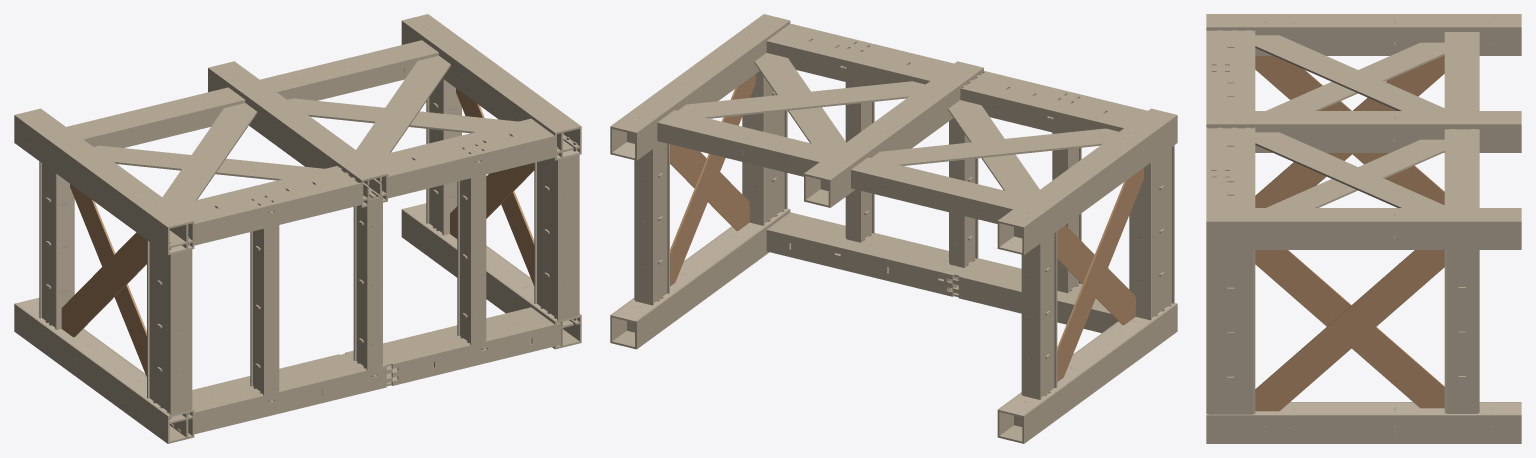
The model's file is workbench-v58-design-only.glb.
3 renders of one model, left to right at view 1: azimuth 30°, elevation 25°; view 2: azimuth 150°, elevation 25°; view 3: azimuth 270°, elevation 25°, orthographic. The views are drawn at different scales.
Visible parts, largest first — view 1: FL_COL_WIDE_PLAIN, RL_COL_WIDE_PLAIN, FRONT_UPPER_CAP_TOP_1, FRONT_UPPER_WEB_2_2, FRONT_UPPER_CAP_TOP_2, REAR_UPPER_L_CAP_TOP_1, REAR_UPPER_R_CAP_TOP_1, LEFT_UPPER_CAP_TOP_1, REAR_UPPER_R_WEB_2_1, RC_COL_NARROW_BACK_PLAIN, RR_COL_NARROW_PLAIN, RL_COL_NARROW_PLAIN (+34 smaller); view 2: FL_COL_WIDE_PLAIN, RL_COL_WIDE_PLAIN, FRONT_UPPER_WEB_2_2, FRONT_UPPER_CAP_BOTTOM_2, FR_COL_WIDE_RECV, REAR_R_BRACE_RISE, REAR_L_BRACE_RISE, LEFT_BRACE_RISE, REAR_UPPER_R_WEB_2_1, RL_COL_NARROW_PLAIN, RR_COL_NARROW_PLAIN, RC_COL_NARROW_BACK_PLAIN (+35 smaller); view 3: FR_COL_WIDE_PLAIN, RR_COL_WIDE_PLAIN, RIGHT_BRACE_FALL, RIGHT_UPPER_WEB_2_1, RIGHT_BRACE_RISE, RC_COL_WIDE_RIGHT_RECV, RL_COL_WIDE_RECV, RIGHT_LOWER_WEB_2_1, REAR_L_BRACE_RISE, REAR_R_BRACE_RISE, RL_COL_NARROW_PLAIN, RR_COL_NARROW_PLAIN (+17 smaller).
Part boxes in pixels (x1,y1,x2,y2): FL_COL_WIDE_PLAIN: [14, 303, 169, 443]; RL_COL_WIDE_PLAIN: [14, 114, 169, 254]; FRONT_UPPER_CAP_TOP_1: [194, 365, 392, 434]; FRONT_UPPER_WEB_2_2: [302, 308, 553, 380]; FRONT_UPPER_CAP_TOP_2: [391, 322, 560, 385]; REAR_UPPER_L_CAP_TOP_1: [194, 182, 361, 245]; REAR_UPPER_R_CAP_TOP_1: [388, 135, 554, 198]; LEFT_UPPER_CAP_TOP_1: [169, 249, 191, 415]; REAR_UPPER_R_WEB_2_1: [369, 119, 553, 175]; RC_COL_NARROW_BACK_PLAIN: [210, 61, 386, 181]; RR_COL_NARROW_PLAIN: [403, 14, 579, 134]; RL_COL_NARROW_PLAIN: [16, 109, 192, 228]; FL_COL_WIDE_PLAIN: [1022, 303, 1177, 443]; RL_COL_WIDE_PLAIN: [1022, 114, 1177, 254]; FRONT_UPPER_WEB_2_2: [768, 213, 1019, 284]; FRONT_UPPER_CAP_BOTTOM_2: [766, 229, 953, 296]; FR_COL_WIDE_RECV: [635, 209, 790, 349]; REAR_R_BRACE_RISE: [678, 81, 925, 118]; REAR_L_BRACE_RISE: [871, 128, 1118, 165]; LEFT_BRACE_RISE: [1057, 168, 1143, 381]; REAR_UPPER_R_WEB_2_1: [768, 24, 952, 80]; RL_COL_NARROW_PLAIN: [999, 109, 1175, 228]; RR_COL_NARROW_PLAIN: [612, 14, 788, 134]; RC_COL_NARROW_BACK_PLAIN: [805, 61, 981, 181]; FR_COL_WIDE_PLAIN: [1206, 414, 1521, 443]; RR_COL_WIDE_PLAIN: [1206, 220, 1521, 249]; RIGHT_BRACE_FALL: [1255, 250, 1444, 411]; RIGHT_UPPER_WEB_2_1: [1208, 250, 1253, 414]; RIGHT_BRACE_RISE: [1255, 250, 1444, 408]; RC_COL_WIDE_RIGHT_RECV: [1206, 123, 1521, 152]; RL_COL_WIDE_RECV: [1206, 26, 1521, 55]; RIGHT_LOWER_WEB_2_1: [1446, 250, 1477, 413]; REAR_L_BRACE_RISE: [1255, 35, 1444, 110]; REAR_R_BRACE_RISE: [1255, 132, 1444, 207]; RL_COL_NARROW_PLAIN: [1206, 15, 1521, 26]; RR_COL_NARROW_PLAIN: [1206, 209, 1521, 220].
Size of the model in its own units: 1400 by 700 by 900.
